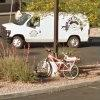Bicycle: (29, 42, 81, 89)
